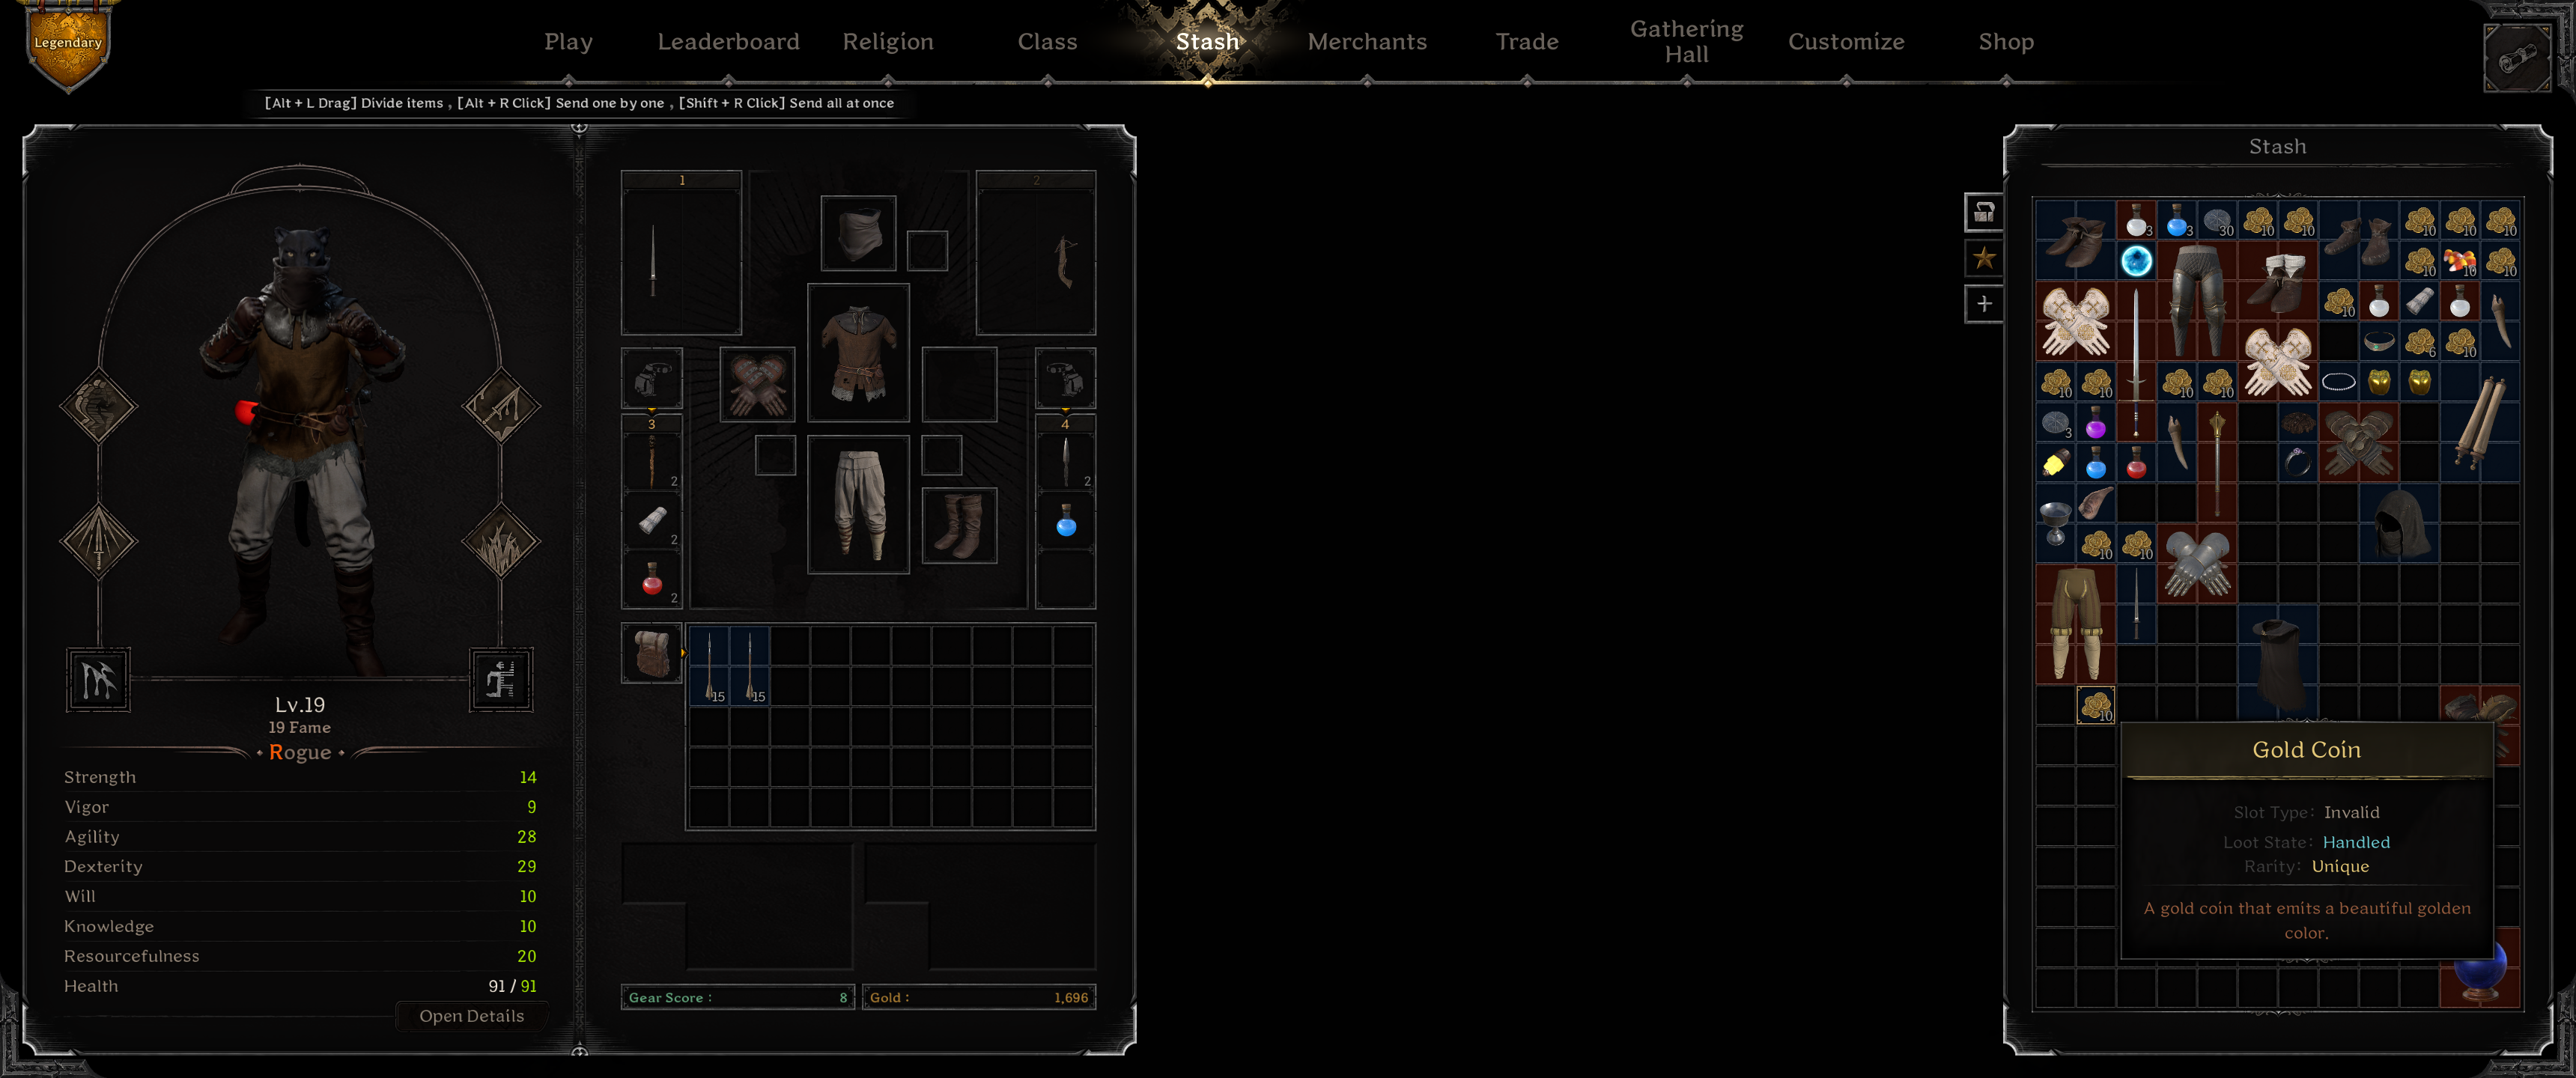Tooltip: (2119, 720, 2495, 961)
